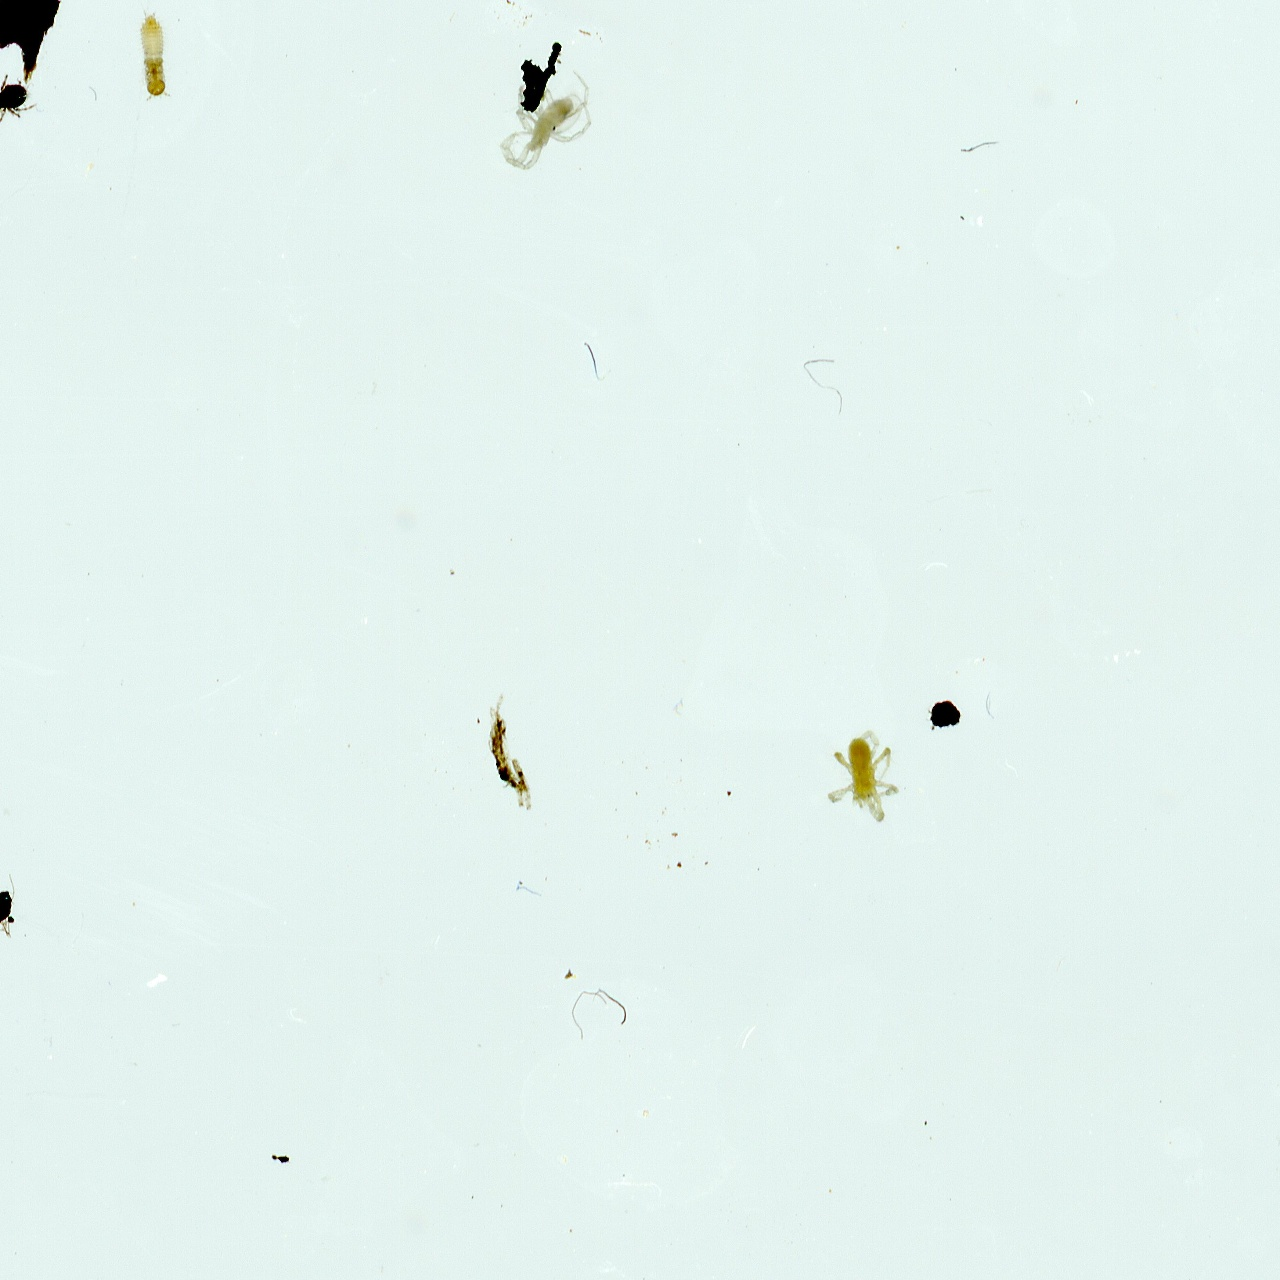arthropod: (498, 63, 613, 192), (825, 728, 902, 826), (136, 0, 173, 103), (0, 71, 41, 129)
